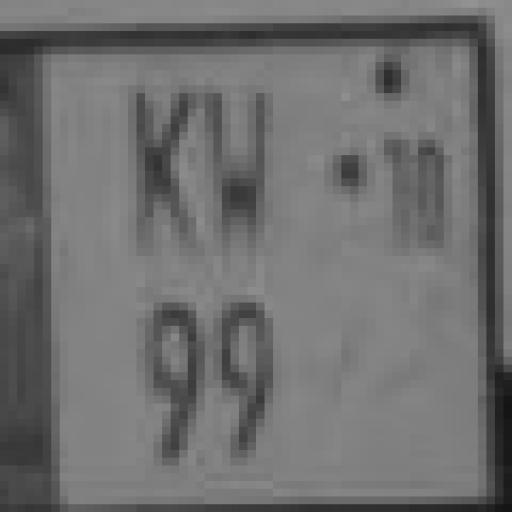9: (215, 290, 298, 472), (125, 298, 208, 468)
H: (203, 59, 287, 287)
K: (121, 88, 193, 252)
